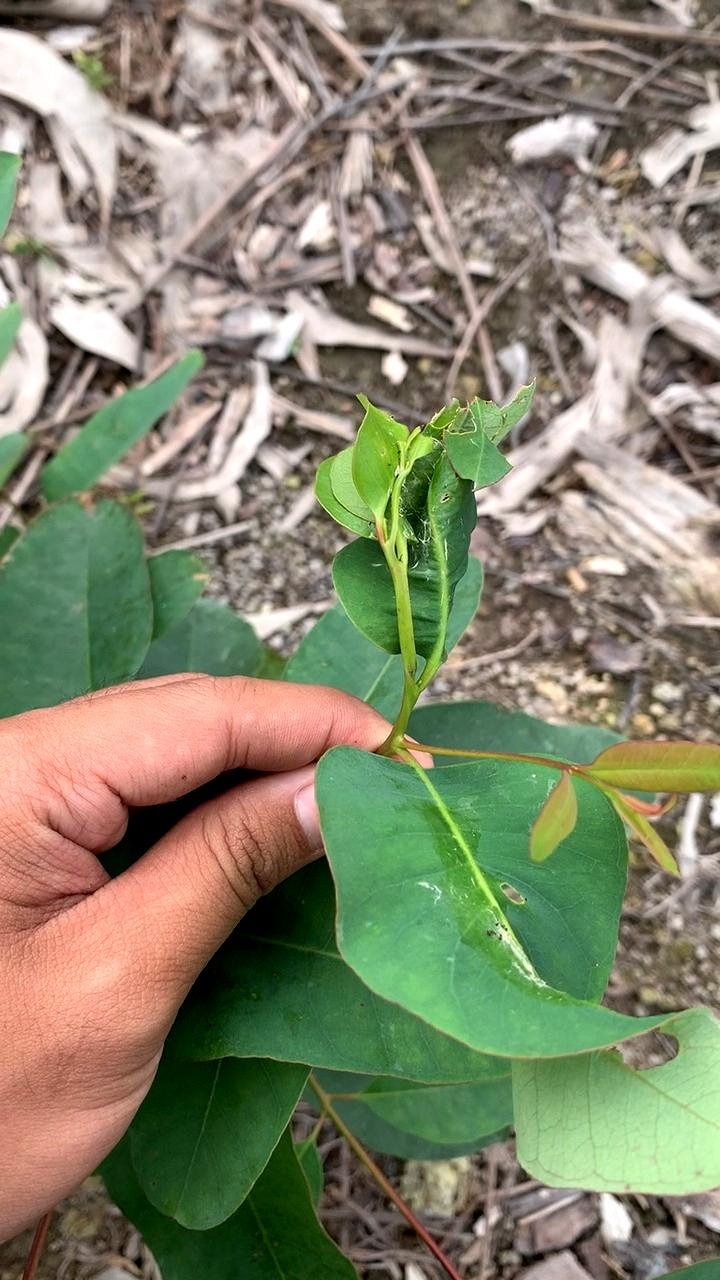Leaf Roller - Leaf: (308, 368, 549, 664)
